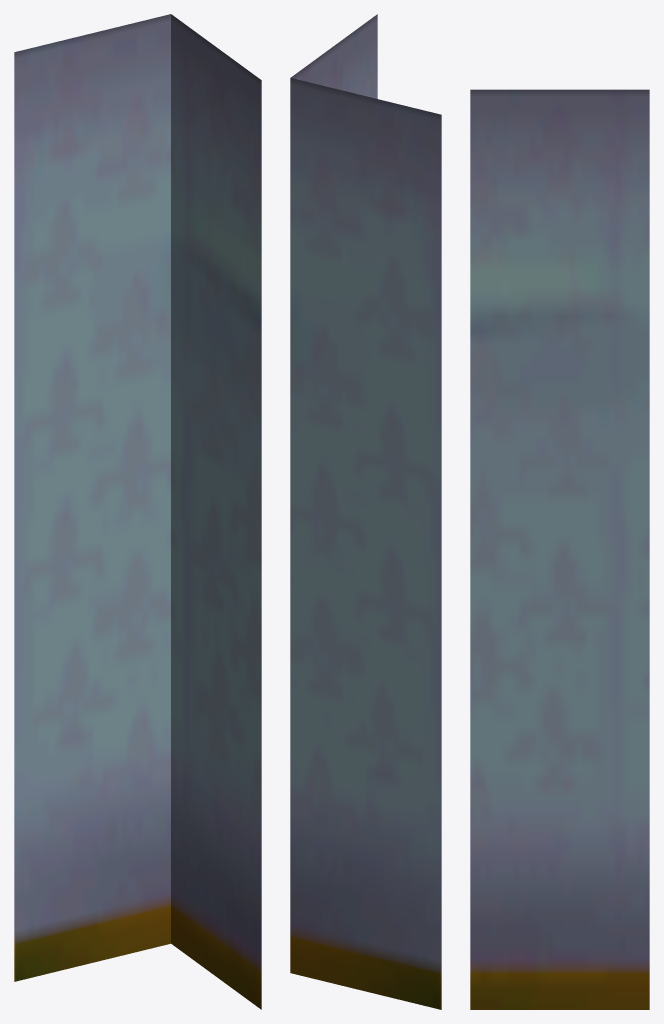
File: W_A1_Eckverschluß [Violett]_1754.glb
3 views of the same model, side by side, from view 1: azimuth 30°, elevation 25°; view 2: azimuth 150°, elevation 25°; view 3: azimuth 270°, elevation 25° (orthographic). The views are drawn at different scales.
Visible parts, largest first — view 1: pPlaneShape7; view 2: pPlaneShape7; view 3: pPlaneShape7.
Part boxes in pixels (box(x1,y1,x2,y2)): pPlaneShape7: box(14, 14, 261, 1009); pPlaneShape7: box(290, 14, 441, 1009); pPlaneShape7: box(470, 89, 649, 1009).
Size of the model in its own units: 0.0615 by 0.3486 by 0.0615.
Materials: 1 (1 with a texture image).
